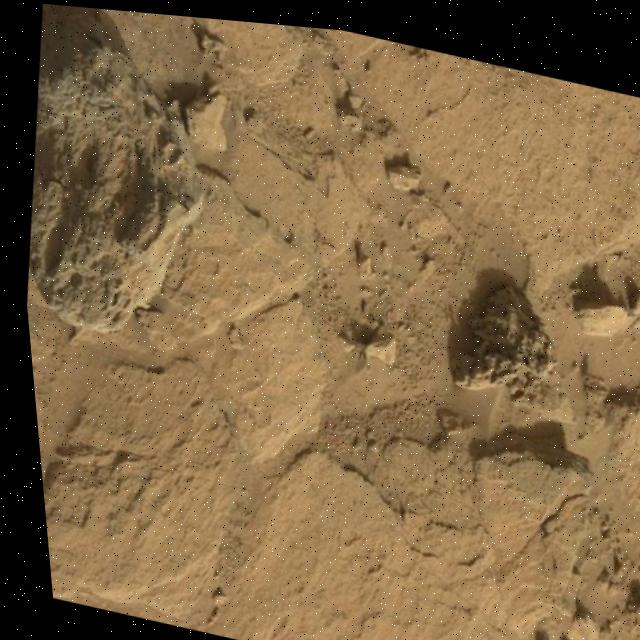mars-rocks: (23, 10, 197, 330), (569, 289, 628, 326)
